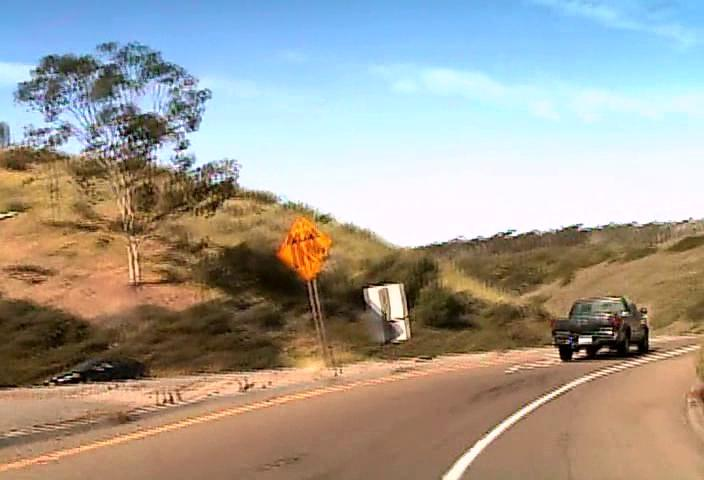addedLane: (275, 213, 332, 281)
